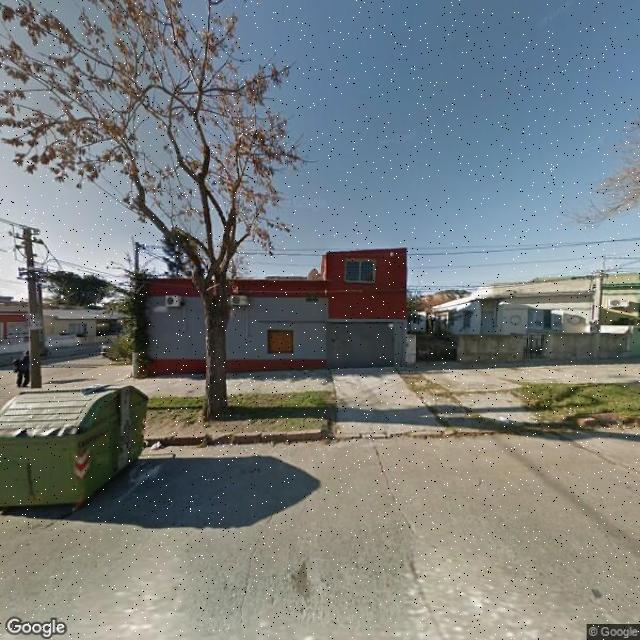garbage container: (1, 372, 176, 520)
